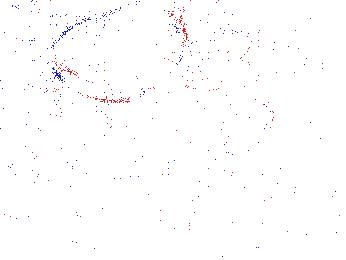moon jellyfish: (45, 4, 188, 103), (1, 14, 101, 94), (189, 58, 275, 137), (162, 31, 257, 91)
